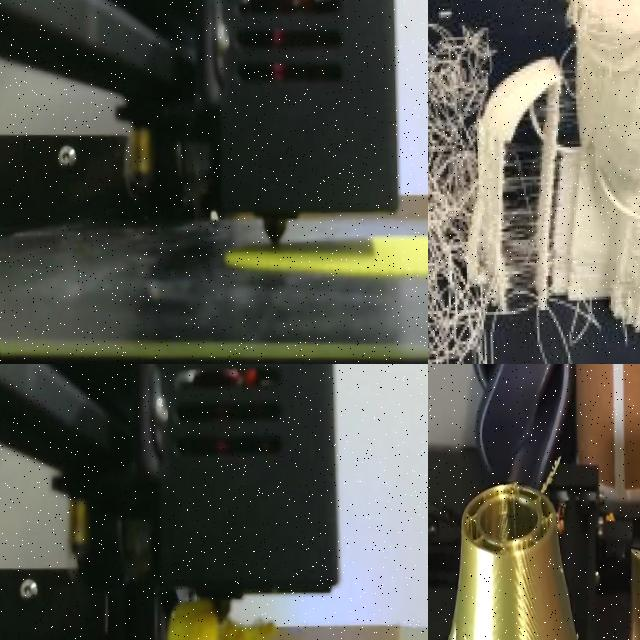spaghetti: (453, 0, 640, 364), (165, 598, 275, 640)
